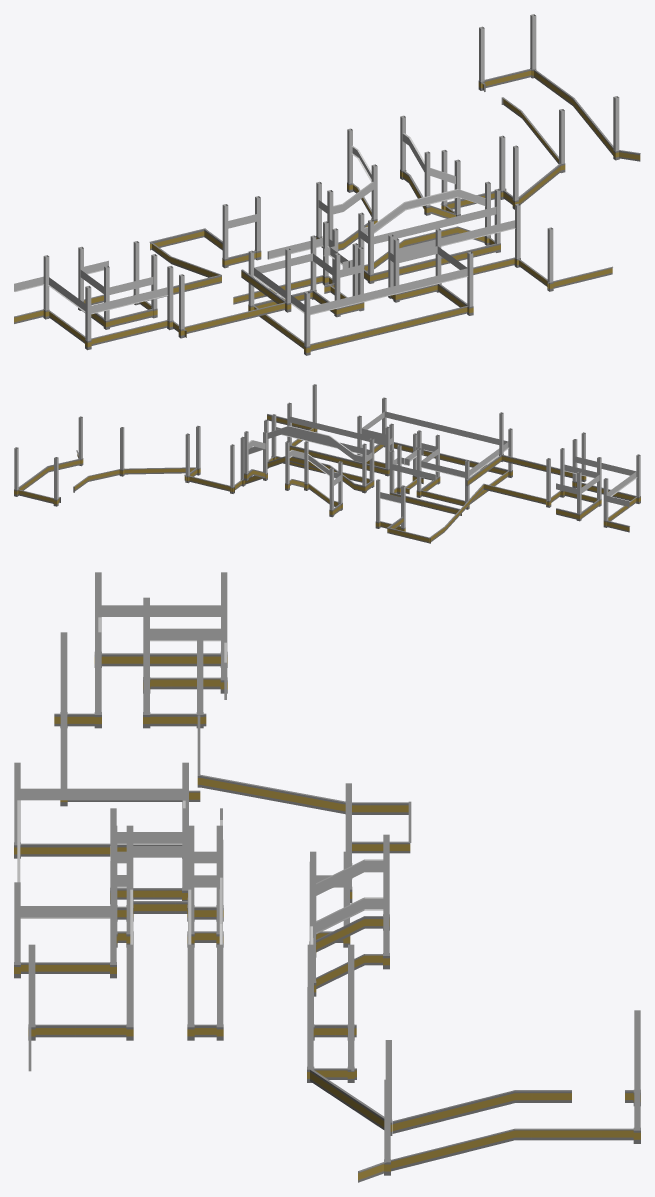
The model's file is WallBits.fbx.
3 views of the same model, one above another, from view 1: azimuth 30°, elevation 25°; view 2: azimuth 150°, elevation 25°; view 3: azimuth 270°, elevation 25° (orthographic). The views are drawn at different scales.
Visible parts, largest first — view 1: Cube.010, Cube.116, Cube.081, Cube.012, Cube.013, Cube.129, Cube.006, Cube.014; view 2: Cube.010, Cube.116, Cube.081, Cube.012, Cube.129, Cube.013, Cube.006, Cube.014; view 3: Cube.116, Cube.010, Cube.081, Cube.129, Cube.013, Cube.012, Cube.006, Cube.014.
Boxes of the visible parts, x1=… form: Cube.010: x1=43, y1=14, x2=619, y2=346; Cube.116: x1=139, y1=68, x2=640, y2=351; Cube.081: x1=228, y1=133, x2=496, y2=277; Cube.012: x1=14, y1=260, x2=167, y2=314; Cube.013: x1=253, y1=268, x2=467, y2=315; Cube.129: x1=43, y1=68, x2=619, y2=355; Cube.006: x1=14, y1=294, x2=167, y2=345; Cube.014: x1=323, y1=220, x2=515, y2=269; Cube.010: x1=14, y1=384, x2=640, y2=528; Cube.116: x1=18, y1=414, x2=581, y2=543; Cube.081: x1=248, y1=411, x2=464, y2=503; Cube.012: x1=556, y1=456, x2=637, y2=507; Cube.129: x1=14, y1=428, x2=640, y2=531; Cube.013: x1=385, y1=411, x2=508, y2=476; Cube.006: x1=556, y1=481, x2=637, y2=532; Cube.014: x1=290, y1=416, x2=423, y2=465; Cube.116: x1=21, y1=713, x2=633, y2=1182; Cube.010: x1=14, y1=572, x2=640, y2=1162; Cube.081: x1=20, y1=800, x2=383, y2=944; Cube.129: x1=14, y1=652, x2=640, y2=1175; Cube.013: x1=17, y1=788, x2=182, y2=882; Cube.012: x1=98, y1=605, x2=226, y2=662; Cube.006: x1=102, y1=653, x2=226, y2=699; Cube.014: x1=117, y1=846, x2=216, y2=944.
Bounding box in the file's own units: 6064 × 819 × 3262.
